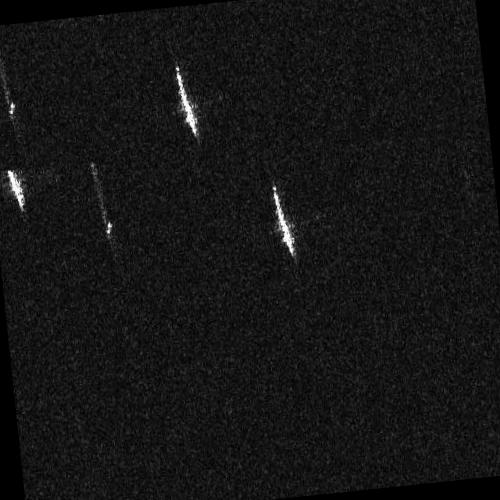ship: (173, 63, 198, 137), (271, 180, 294, 256), (90, 163, 112, 237), (0, 50, 15, 115), (5, 167, 25, 209)
